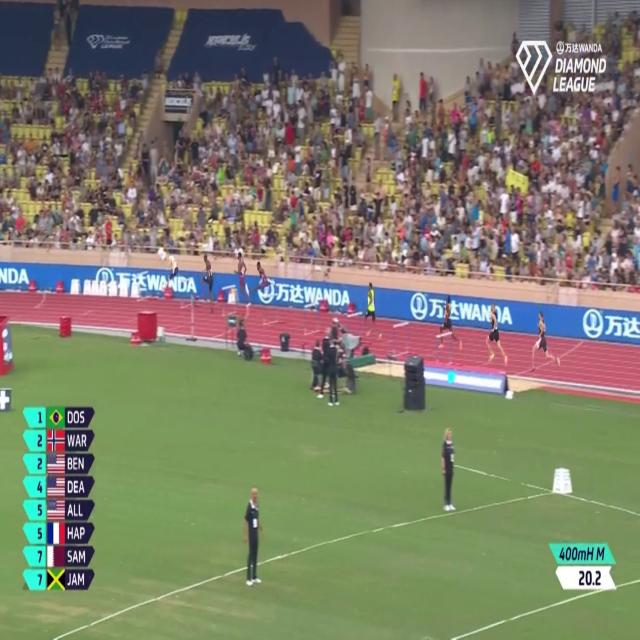athlete: (531, 306, 562, 377), (438, 286, 464, 361), (485, 298, 509, 369), (195, 251, 218, 311), (364, 276, 382, 342), (232, 247, 252, 306), (251, 256, 277, 291), (160, 244, 181, 287)
hurdle: (300, 301, 326, 343), (432, 328, 456, 367), (391, 314, 411, 359), (260, 286, 281, 326), (346, 305, 362, 351), (220, 281, 239, 315), (177, 277, 195, 312)
